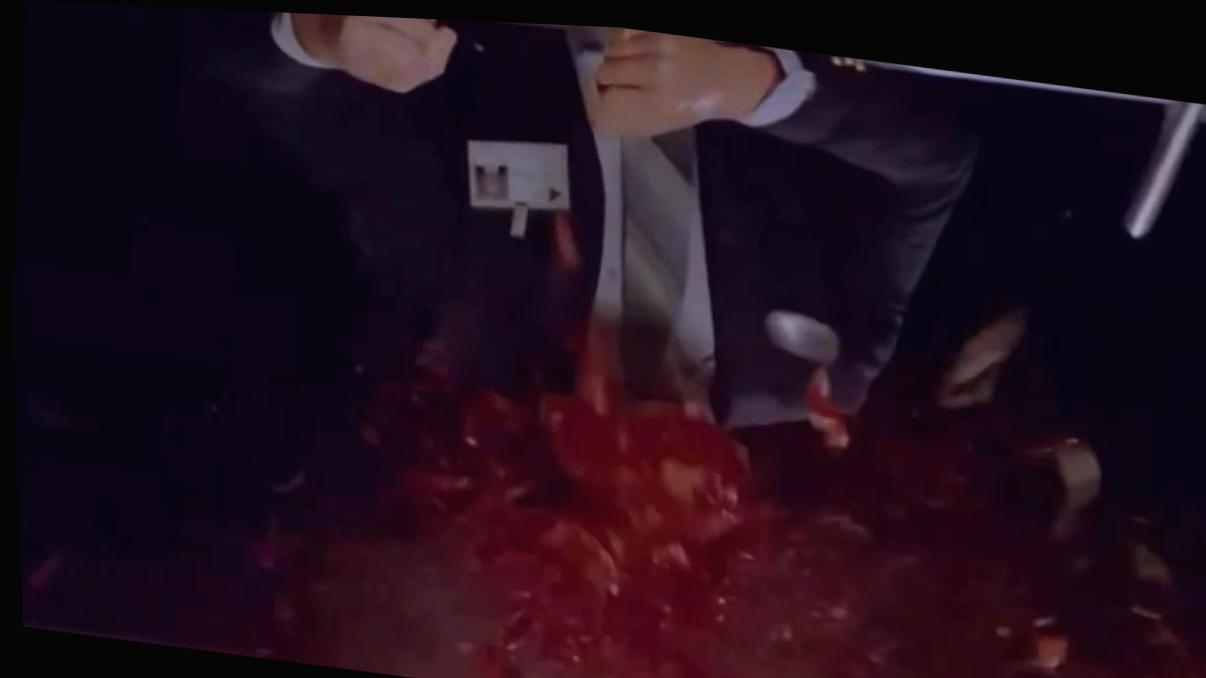Fire: (294, 289, 1201, 678), (931, 290, 1035, 400), (544, 202, 580, 263), (23, 545, 62, 595), (247, 522, 272, 564), (259, 587, 291, 617)
